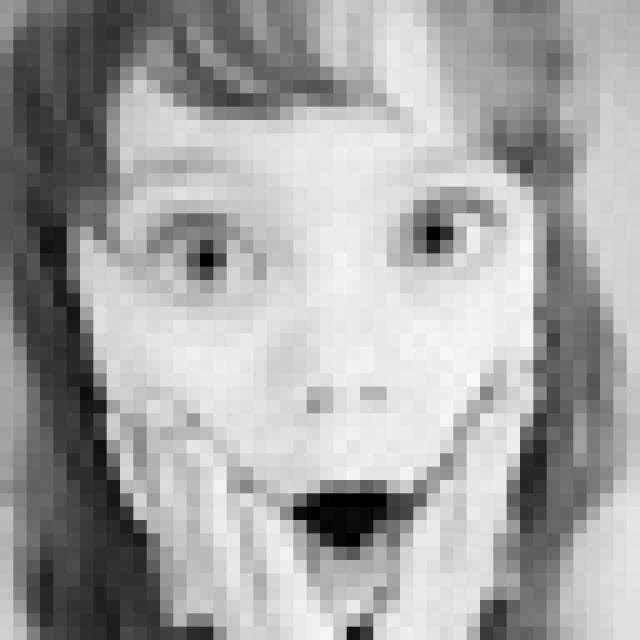surprise: (119, 144, 526, 596)
